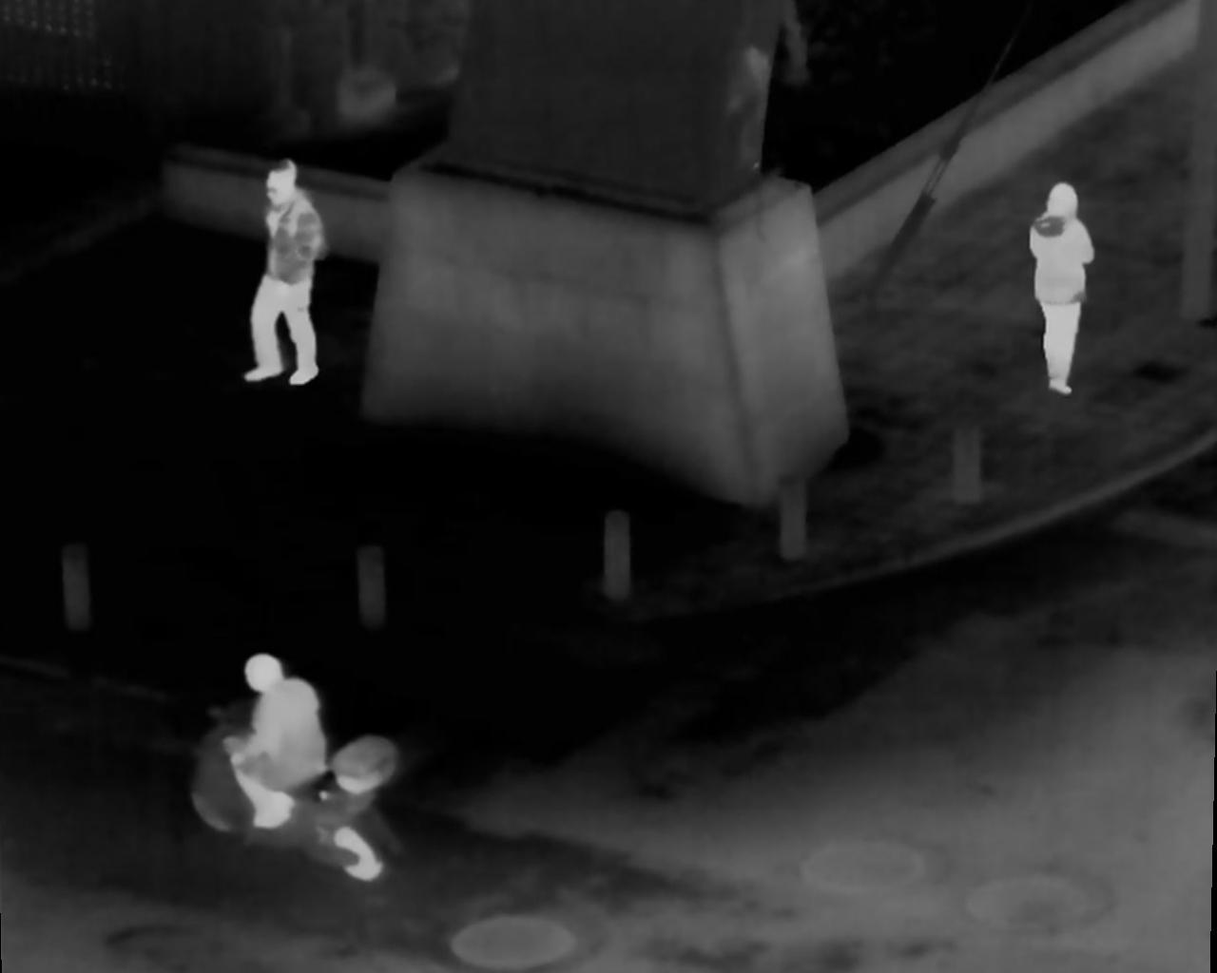person: (234, 161, 331, 388), (240, 651, 326, 845), (1033, 174, 1092, 404)
